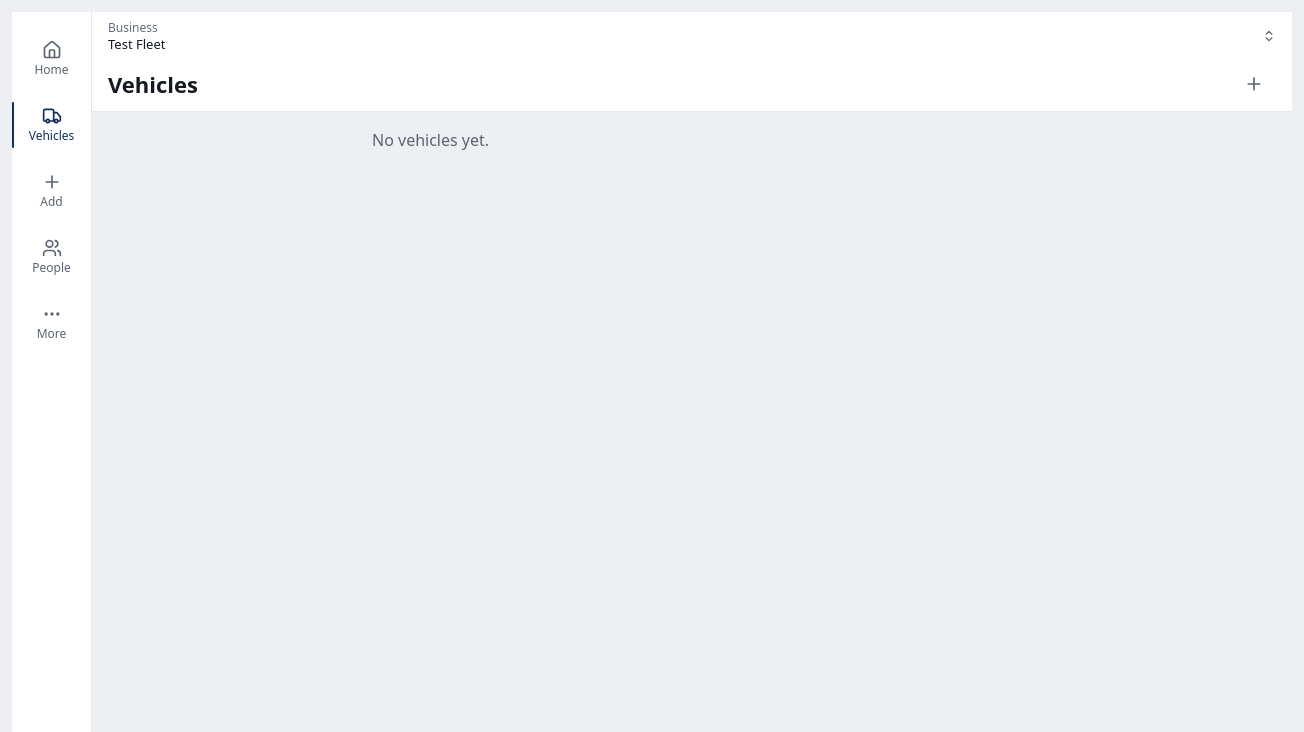
the More tab reaches the /more hub (GAP-37), no longer NotBuiltYetScreen
Expected: the text "No vehicles yet." is shown, [372,129,489,151]
Step 1. Click the button "More" → point(52, 323), box [12,292,91,354]
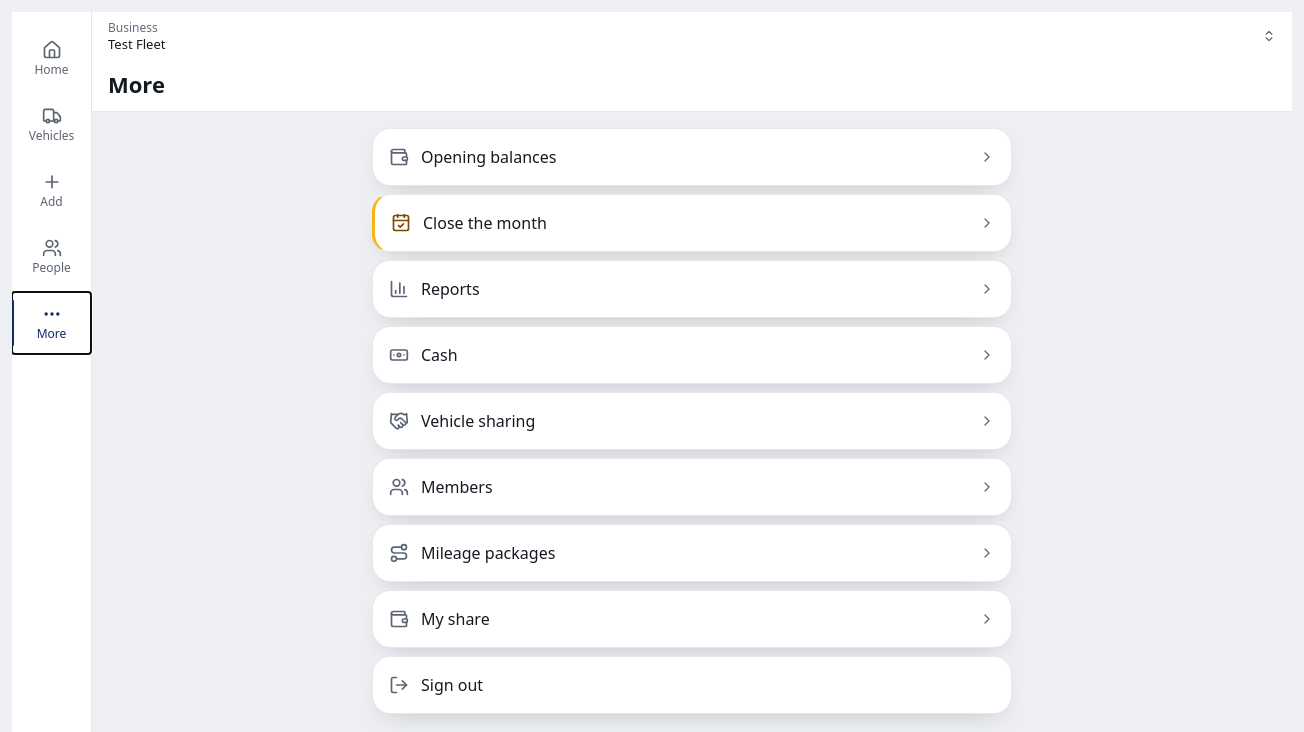
Result: the text "Sign out" is shown at [421,673,483,697]
